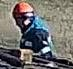helmet: (12, 2, 36, 19)
vest: (20, 23, 53, 56)
